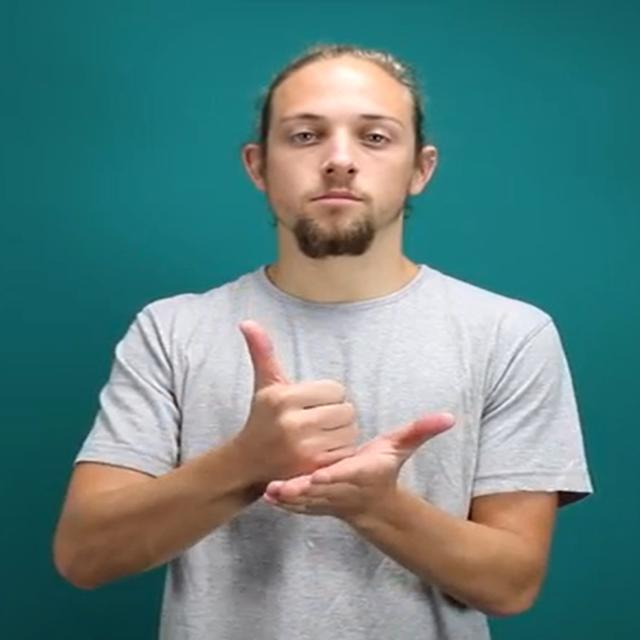help: (239, 320, 456, 516)
